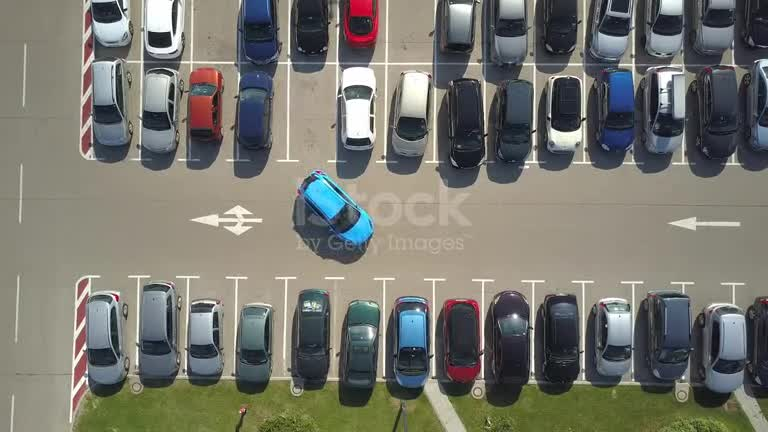car: (298, 170, 373, 245), (691, 65, 740, 158), (697, 303, 746, 392), (643, 290, 691, 380), (138, 282, 181, 378), (85, 291, 129, 384), (640, 66, 686, 153), (490, 291, 530, 384), (91, 58, 132, 145), (141, 68, 183, 152), (446, 78, 485, 168), (293, 289, 330, 382), (391, 70, 431, 156), (341, 300, 380, 388), (393, 296, 430, 387), (542, 294, 580, 382), (594, 68, 634, 151), (443, 298, 482, 382), (592, 298, 632, 376), (495, 79, 533, 161), (235, 303, 273, 383), (339, 67, 375, 150), (545, 75, 583, 152), (236, 71, 273, 148), (187, 299, 223, 375), (488, 0, 529, 64), (590, 0, 633, 61), (240, 0, 281, 63), (188, 67, 223, 140), (144, 0, 185, 59), (693, 0, 735, 55), (644, 0, 683, 57), (743, 59, 767, 149), (292, 0, 330, 55), (543, 0, 580, 53), (440, 0, 477, 53), (91, 0, 133, 46), (746, 296, 767, 386), (343, 0, 378, 46), (741, 0, 767, 47)
